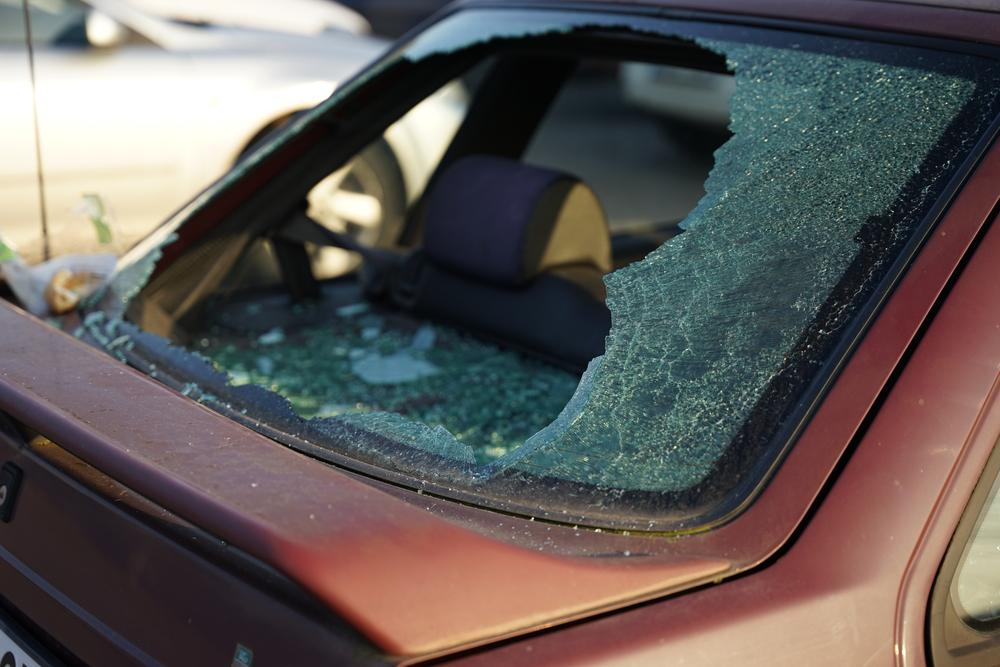glass shatter: (92, 8, 1000, 521)
